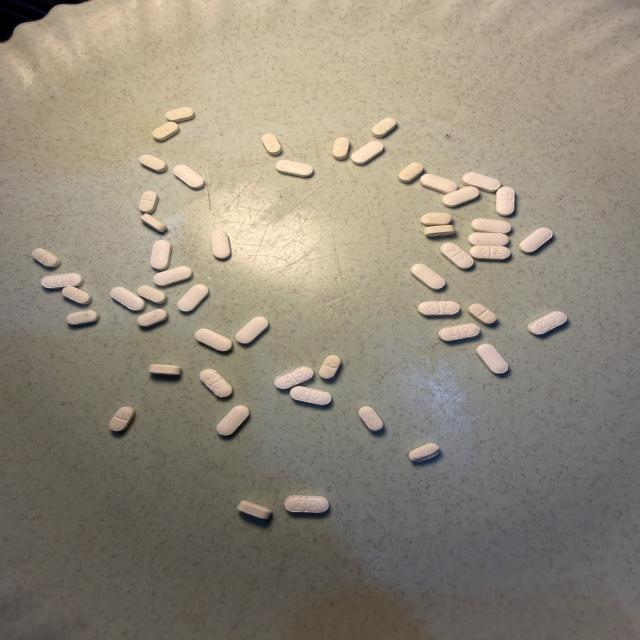pill: (217, 405, 249, 436), (528, 311, 567, 335), (476, 344, 508, 373), (200, 369, 232, 397), (411, 264, 445, 290), (275, 366, 313, 389), (178, 284, 209, 312), (236, 317, 268, 344), (440, 243, 473, 269), (111, 287, 146, 311), (519, 228, 552, 253), (437, 323, 480, 342), (195, 329, 232, 351), (351, 141, 384, 165), (461, 172, 500, 192), (290, 386, 331, 405), (173, 165, 205, 189), (154, 266, 192, 286), (442, 187, 479, 207), (285, 496, 329, 512), (421, 174, 457, 193), (41, 273, 83, 289), (418, 301, 460, 316), (238, 500, 271, 519), (109, 407, 135, 431), (211, 229, 231, 260), (469, 245, 510, 260), (359, 406, 383, 431), (151, 240, 171, 270), (276, 160, 313, 176), (409, 443, 440, 462), (468, 304, 497, 324), (468, 232, 509, 246), (471, 219, 511, 233), (137, 309, 168, 327), (32, 248, 60, 267), (319, 355, 341, 379), (496, 187, 514, 216), (62, 287, 92, 304), (138, 285, 166, 303), (141, 214, 167, 233), (153, 122, 179, 141), (140, 154, 167, 172), (67, 310, 99, 325), (399, 163, 423, 183), (372, 118, 396, 137), (166, 107, 194, 122), (139, 191, 158, 213), (424, 224, 455, 237), (262, 134, 281, 155), (421, 213, 451, 226), (333, 137, 349, 159), (149, 364, 181, 375)
